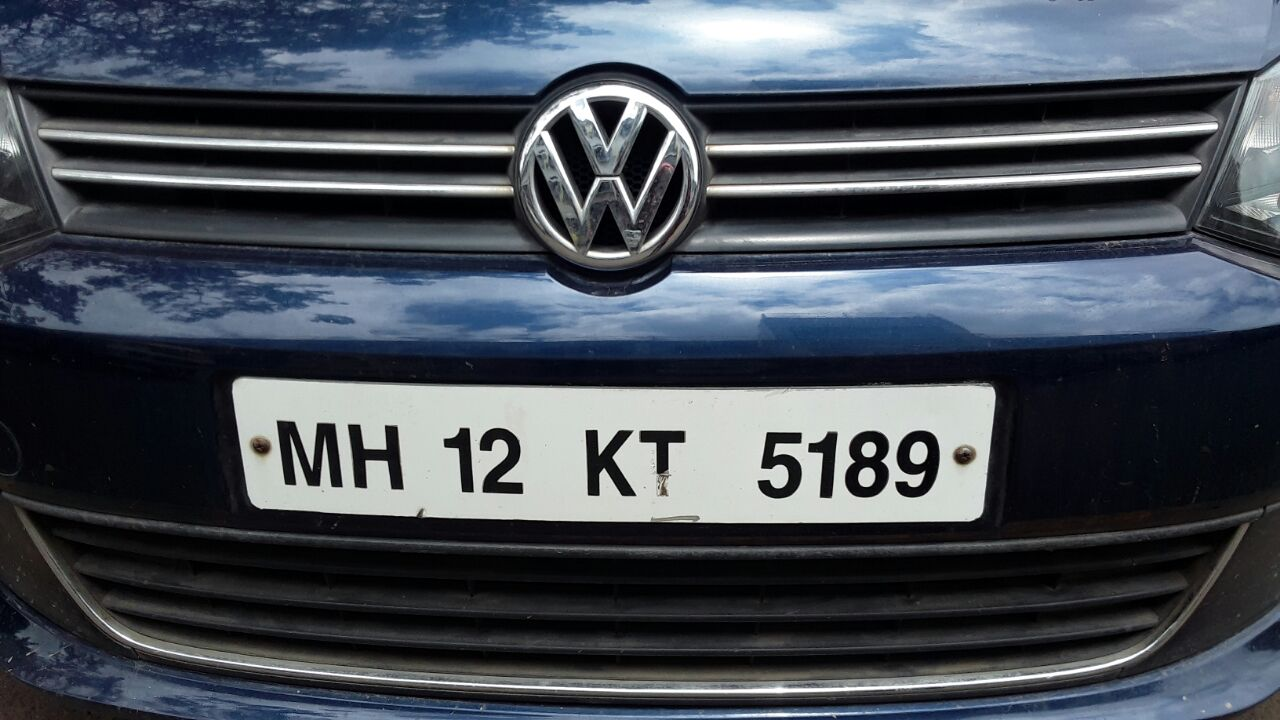licenseplate: (215, 361, 997, 534)
